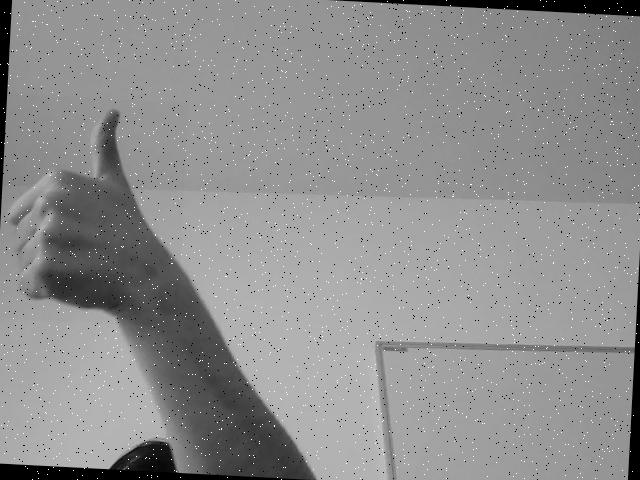good: (3, 100, 181, 324)
